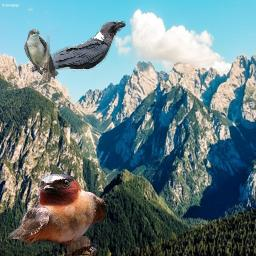Crow: (30, 21, 126, 73)
Swallow: (8, 174, 106, 256), (24, 29, 59, 81)
